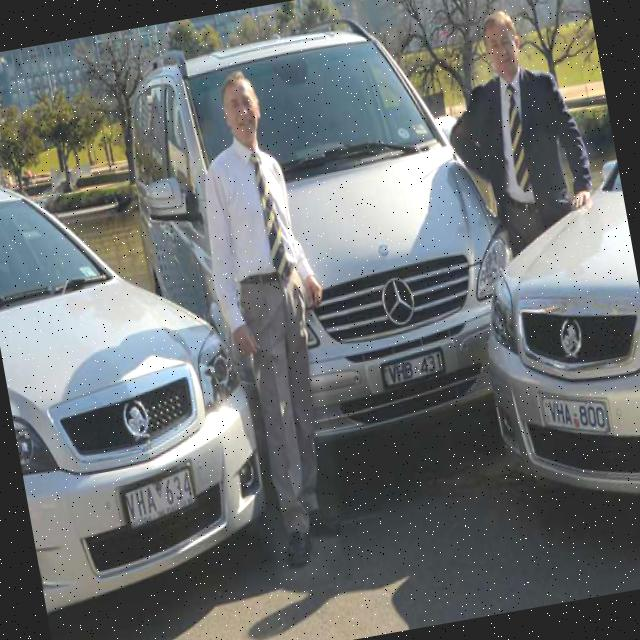Autre: (118, 460, 198, 532), (377, 342, 453, 391), (536, 392, 613, 434)
